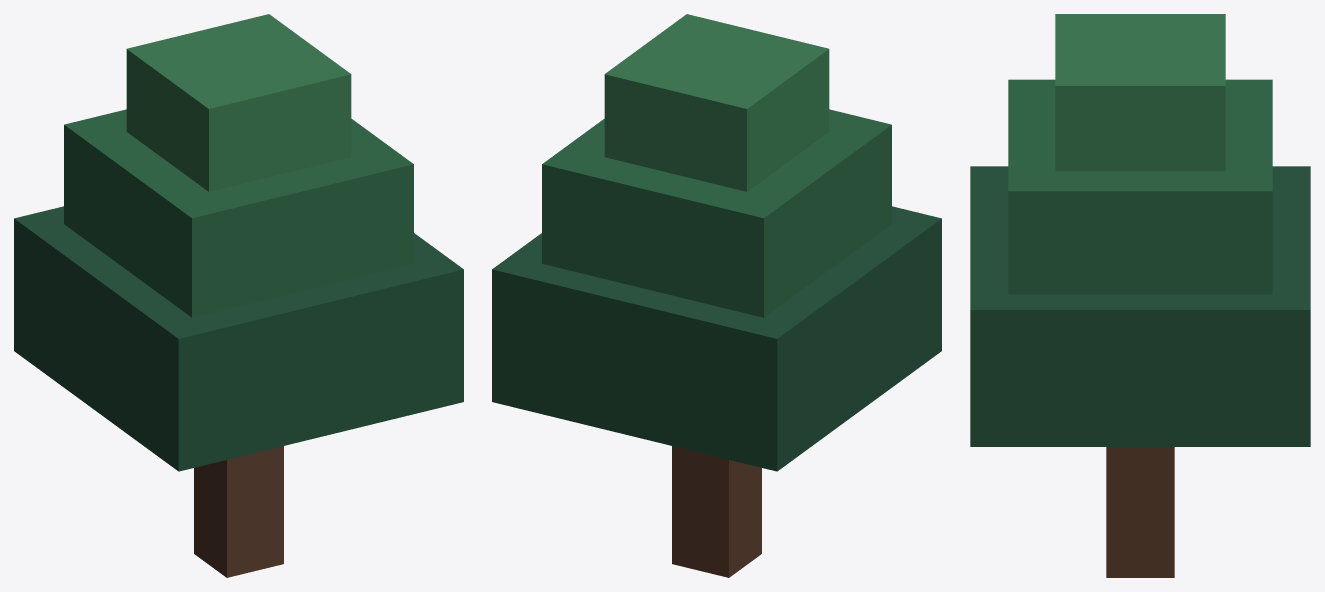
The model's file is tree.glb.
The picture shows the model from 3 angles, left to right: view 1: azimuth 30°, elevation 25°; view 2: azimuth 150°, elevation 25°; view 3: azimuth 270°, elevation 25°; orthographic projection. The views are drawn at different scales.
Visible parts, largest first — view 1: tree; view 2: tree; view 3: tree.
Part boxes in pixels (x1,y1,x2,y2): tree: [14, 14, 463, 577]; tree: [492, 14, 941, 577]; tree: [970, 14, 1310, 577].
Size of the model in its own units: 1.8 by 3 by 1.8.
Materials: 1 (1 with a texture image).
